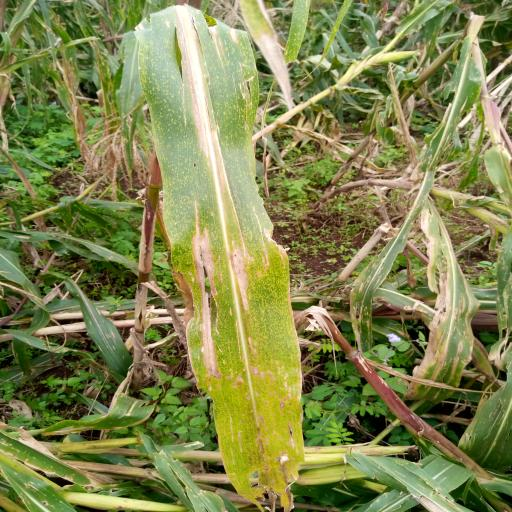Corn_Brown_Spots: (112, 6, 312, 512)
